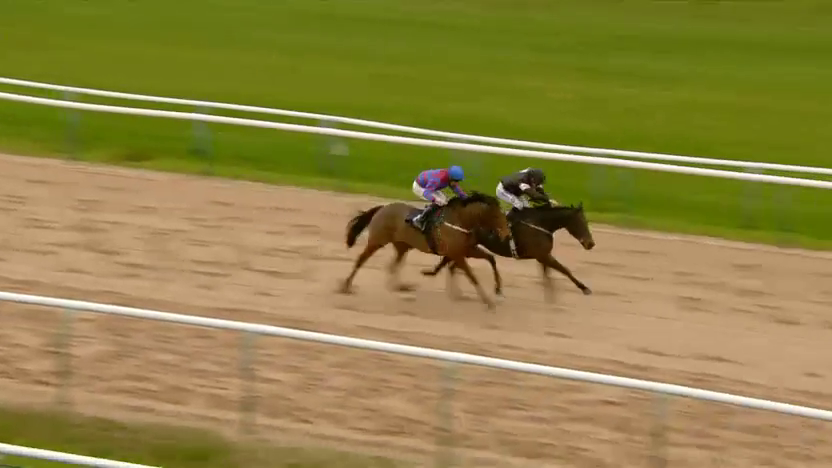jockey: (413, 166, 467, 230), (496, 166, 549, 223)
